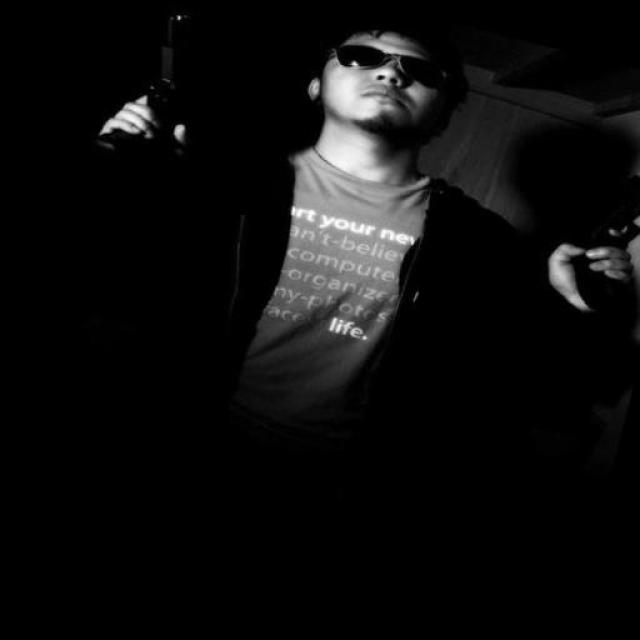gun: (118, 0, 230, 149), (545, 155, 640, 315)
